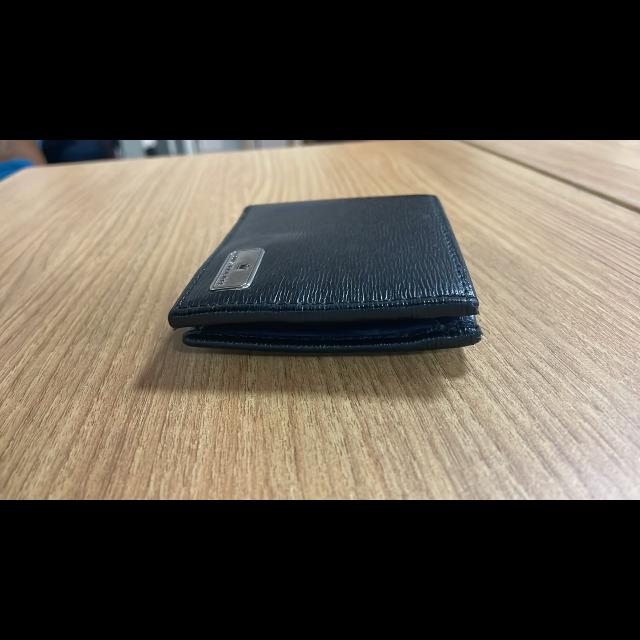wallet: (156, 174, 516, 402)
